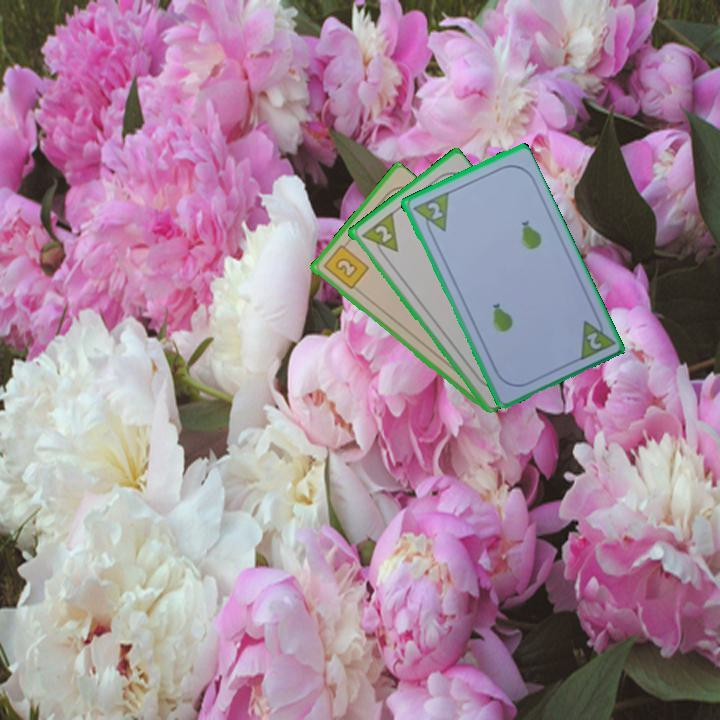2b: (319, 238, 371, 292)
2p: (357, 209, 401, 263), (408, 188, 451, 239), (582, 328, 604, 352)
